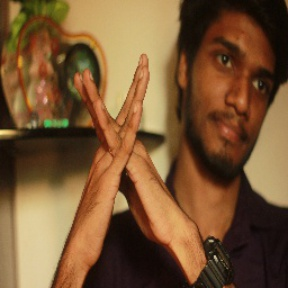W: (64, 47, 184, 258)
